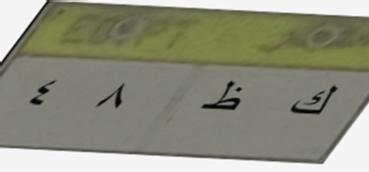4: (20, 69, 61, 118)
8: (88, 71, 139, 118)
Thaa: (199, 68, 249, 121)
kaaf: (280, 75, 345, 128)
